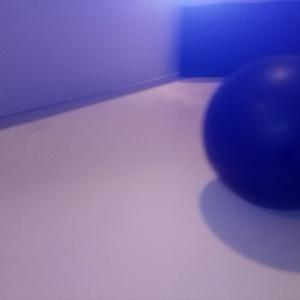dead_ball: (202, 53, 300, 210)
